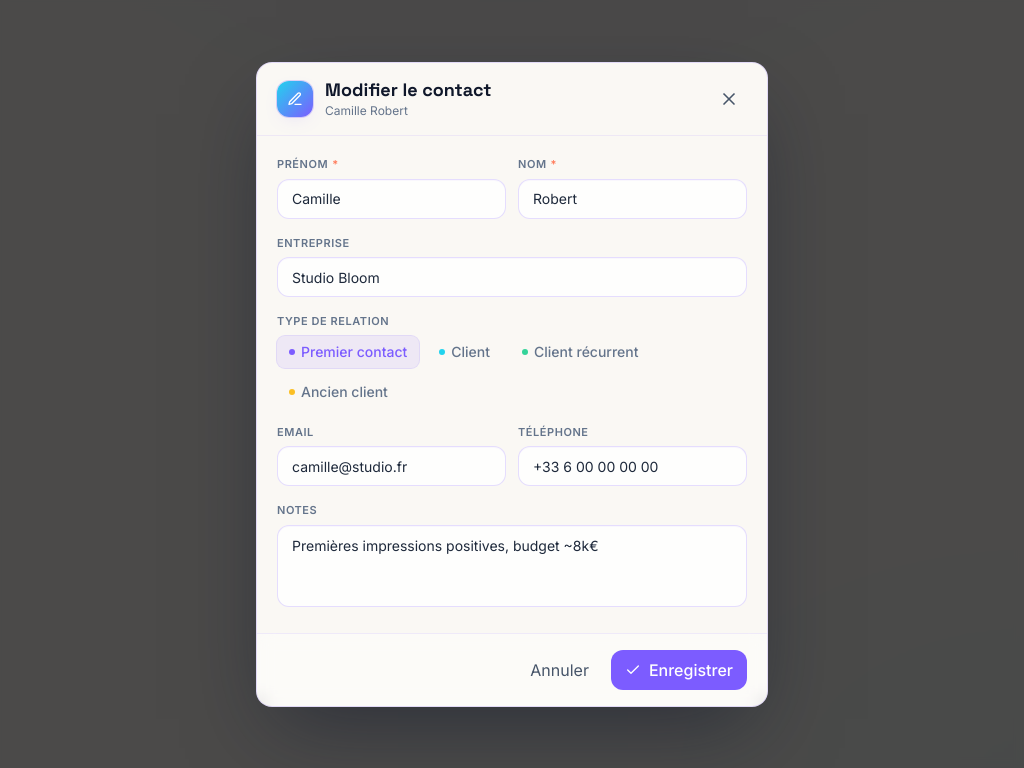
it: ContactEditModal — 19. Erreur sauvegarde affichée › affiche un role=alert en cas d’erreur pendant la sauvegarde
The width and height of the screenshot is (1024, 768).
What coordinates should you click on to do the following:
click the button "Enregistrer"
I would click on:
 (679, 670)
Its box is x1=611 y1=650 x2=747 y2=690.
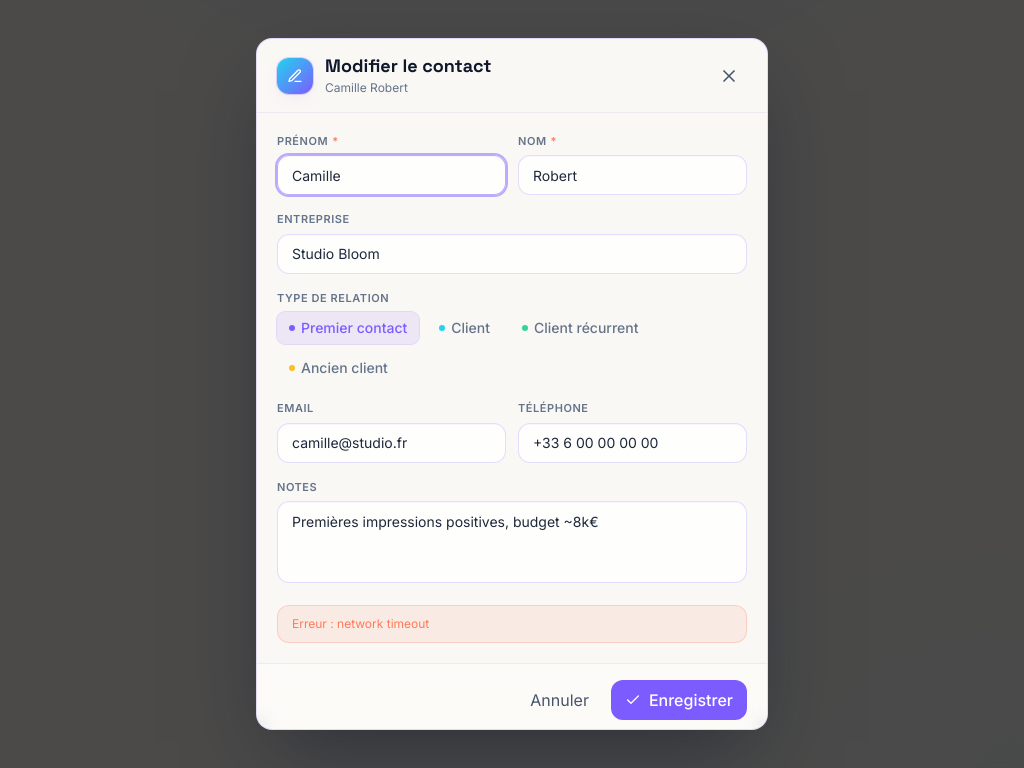
Expected: the message "Erreur : network timeout" is shown, x1=277 y1=605 x2=747 y2=643
Expected: the message shows "network timeout", x1=337 y1=616 x2=429 y2=631
